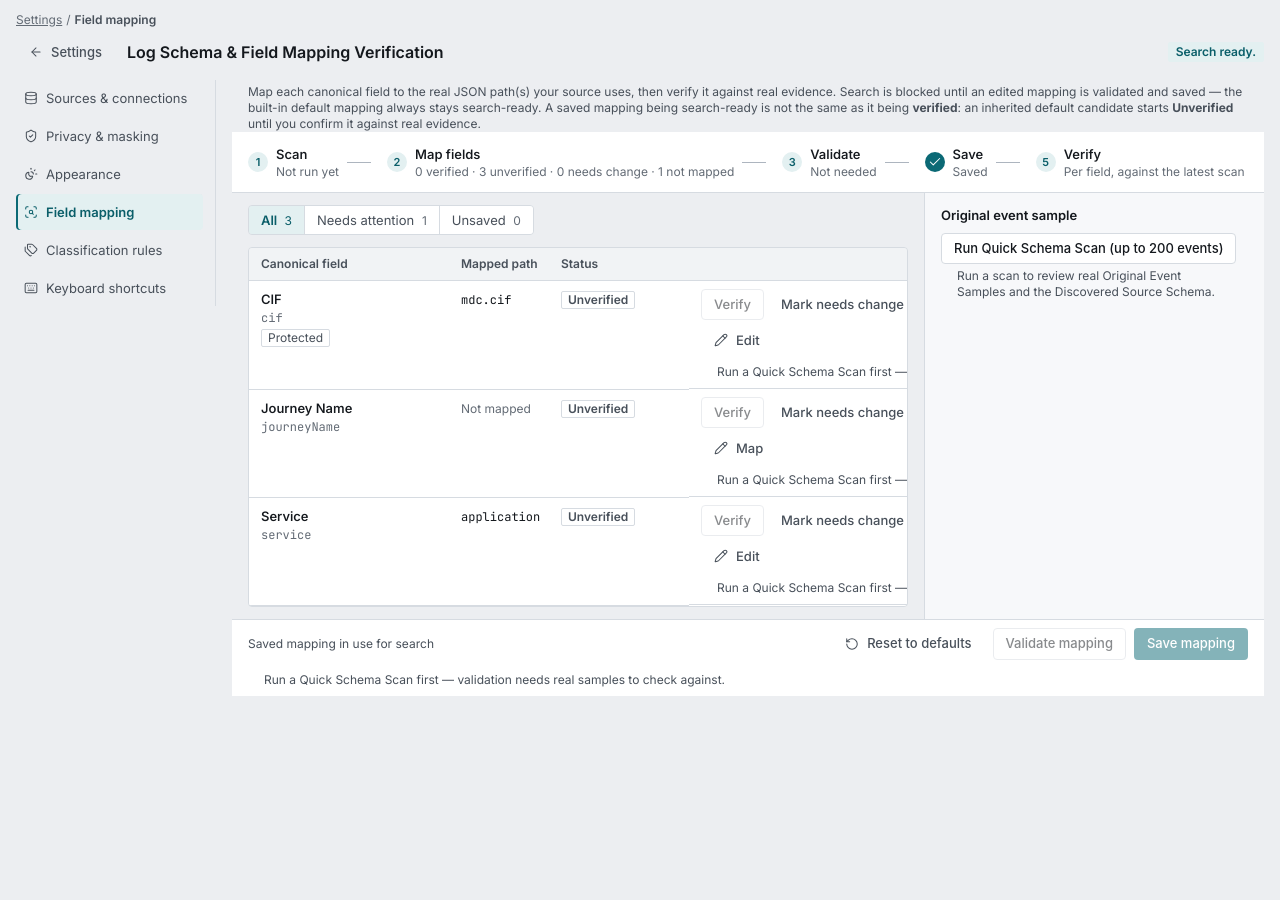
FieldMappingWorkspace › shows a sanitized error if the scan fails
Click the button "Run Quick Schema Scan (up to 200 events)": (1089, 248) [941,233,1236,264]
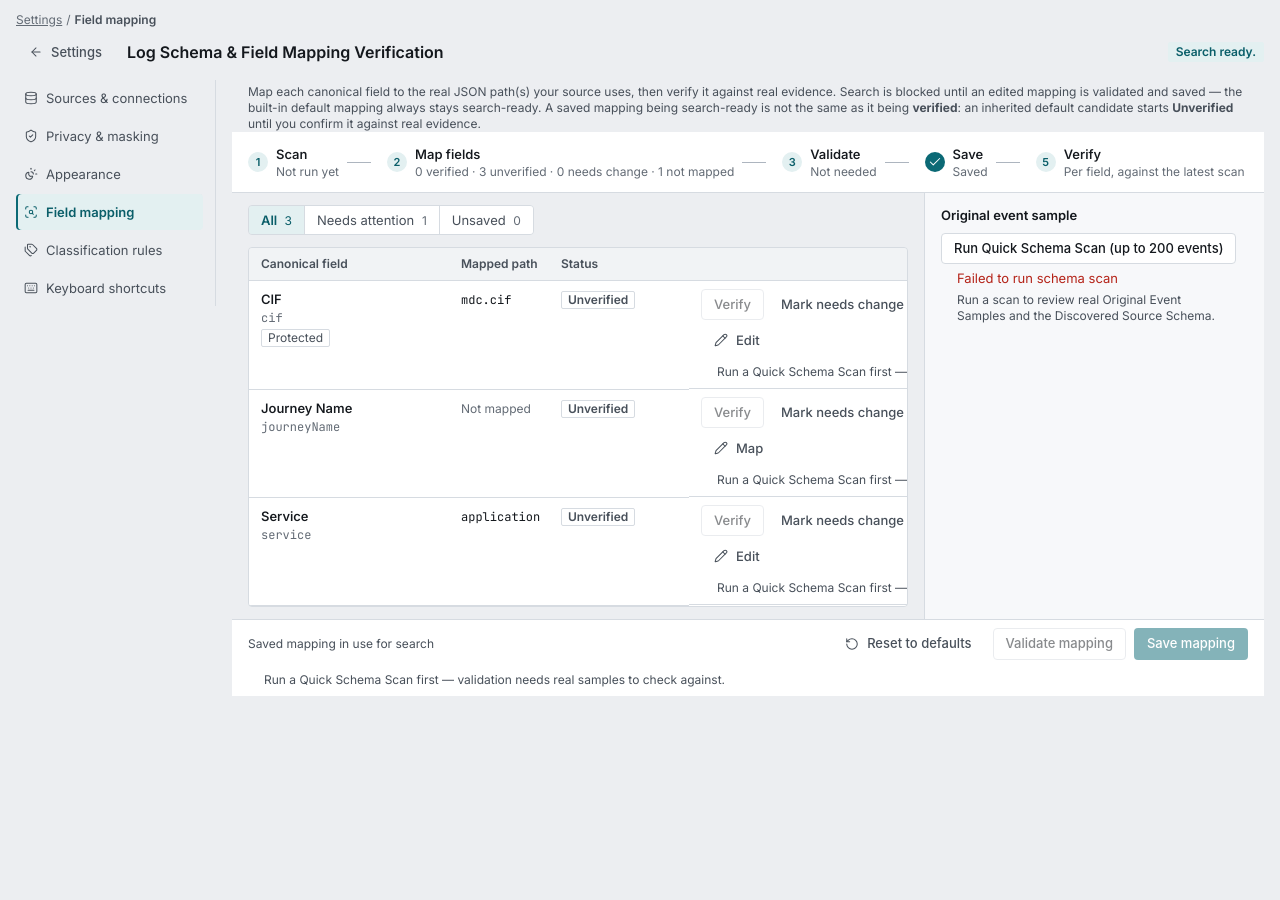
Result: the message reads "Failed to run schema scan" at [957,270,1118,286]
